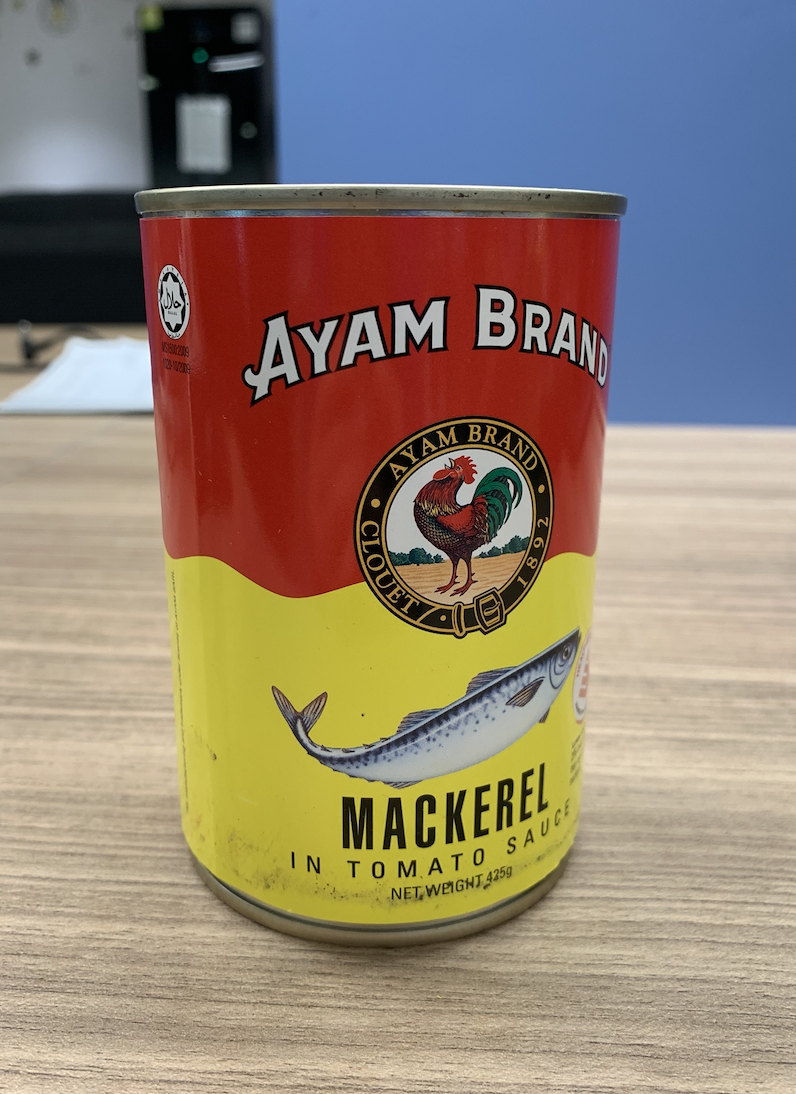sardines_400g-499g: (156, 261, 592, 899)
